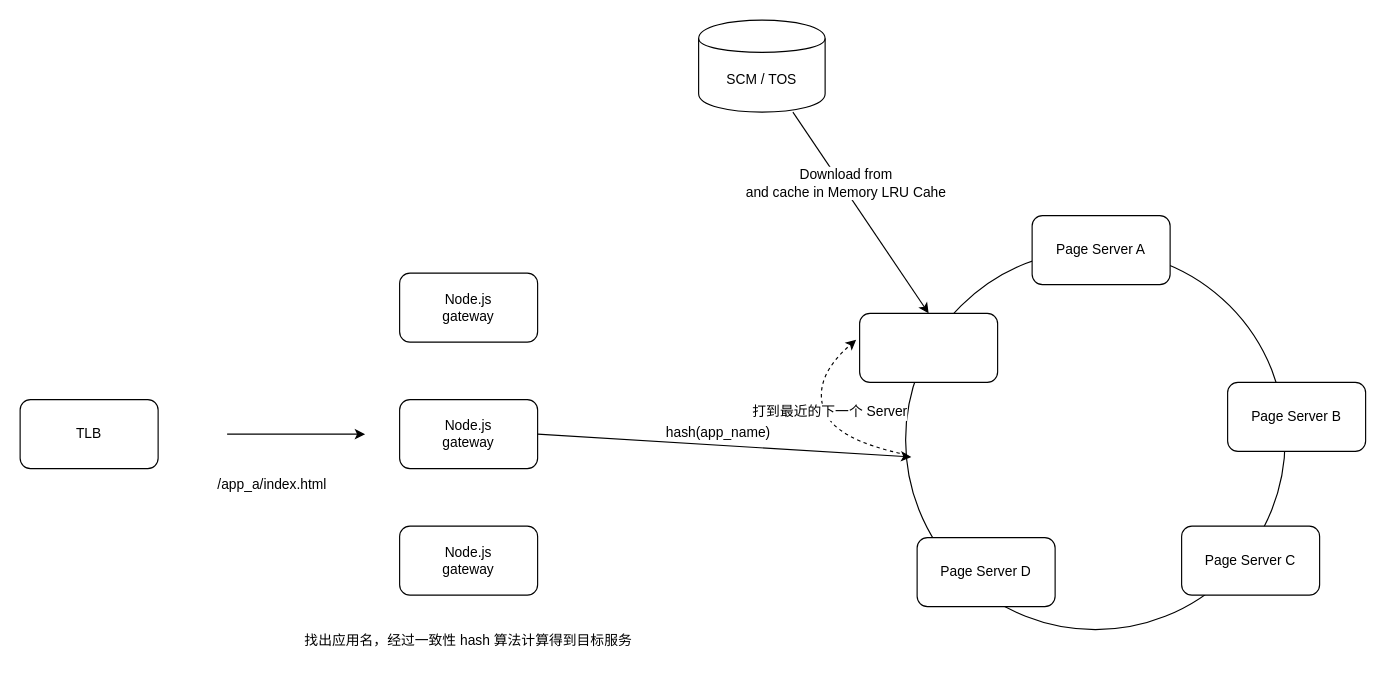
Image size: 1386x673. Some labels were removed from this diagram. Here are the shapes that lost their labels. From the top down, the box of each, then its label:
(858, 312, 998, 382): Page Server E
(904, 249, 1285, 630): 一致性哈希
